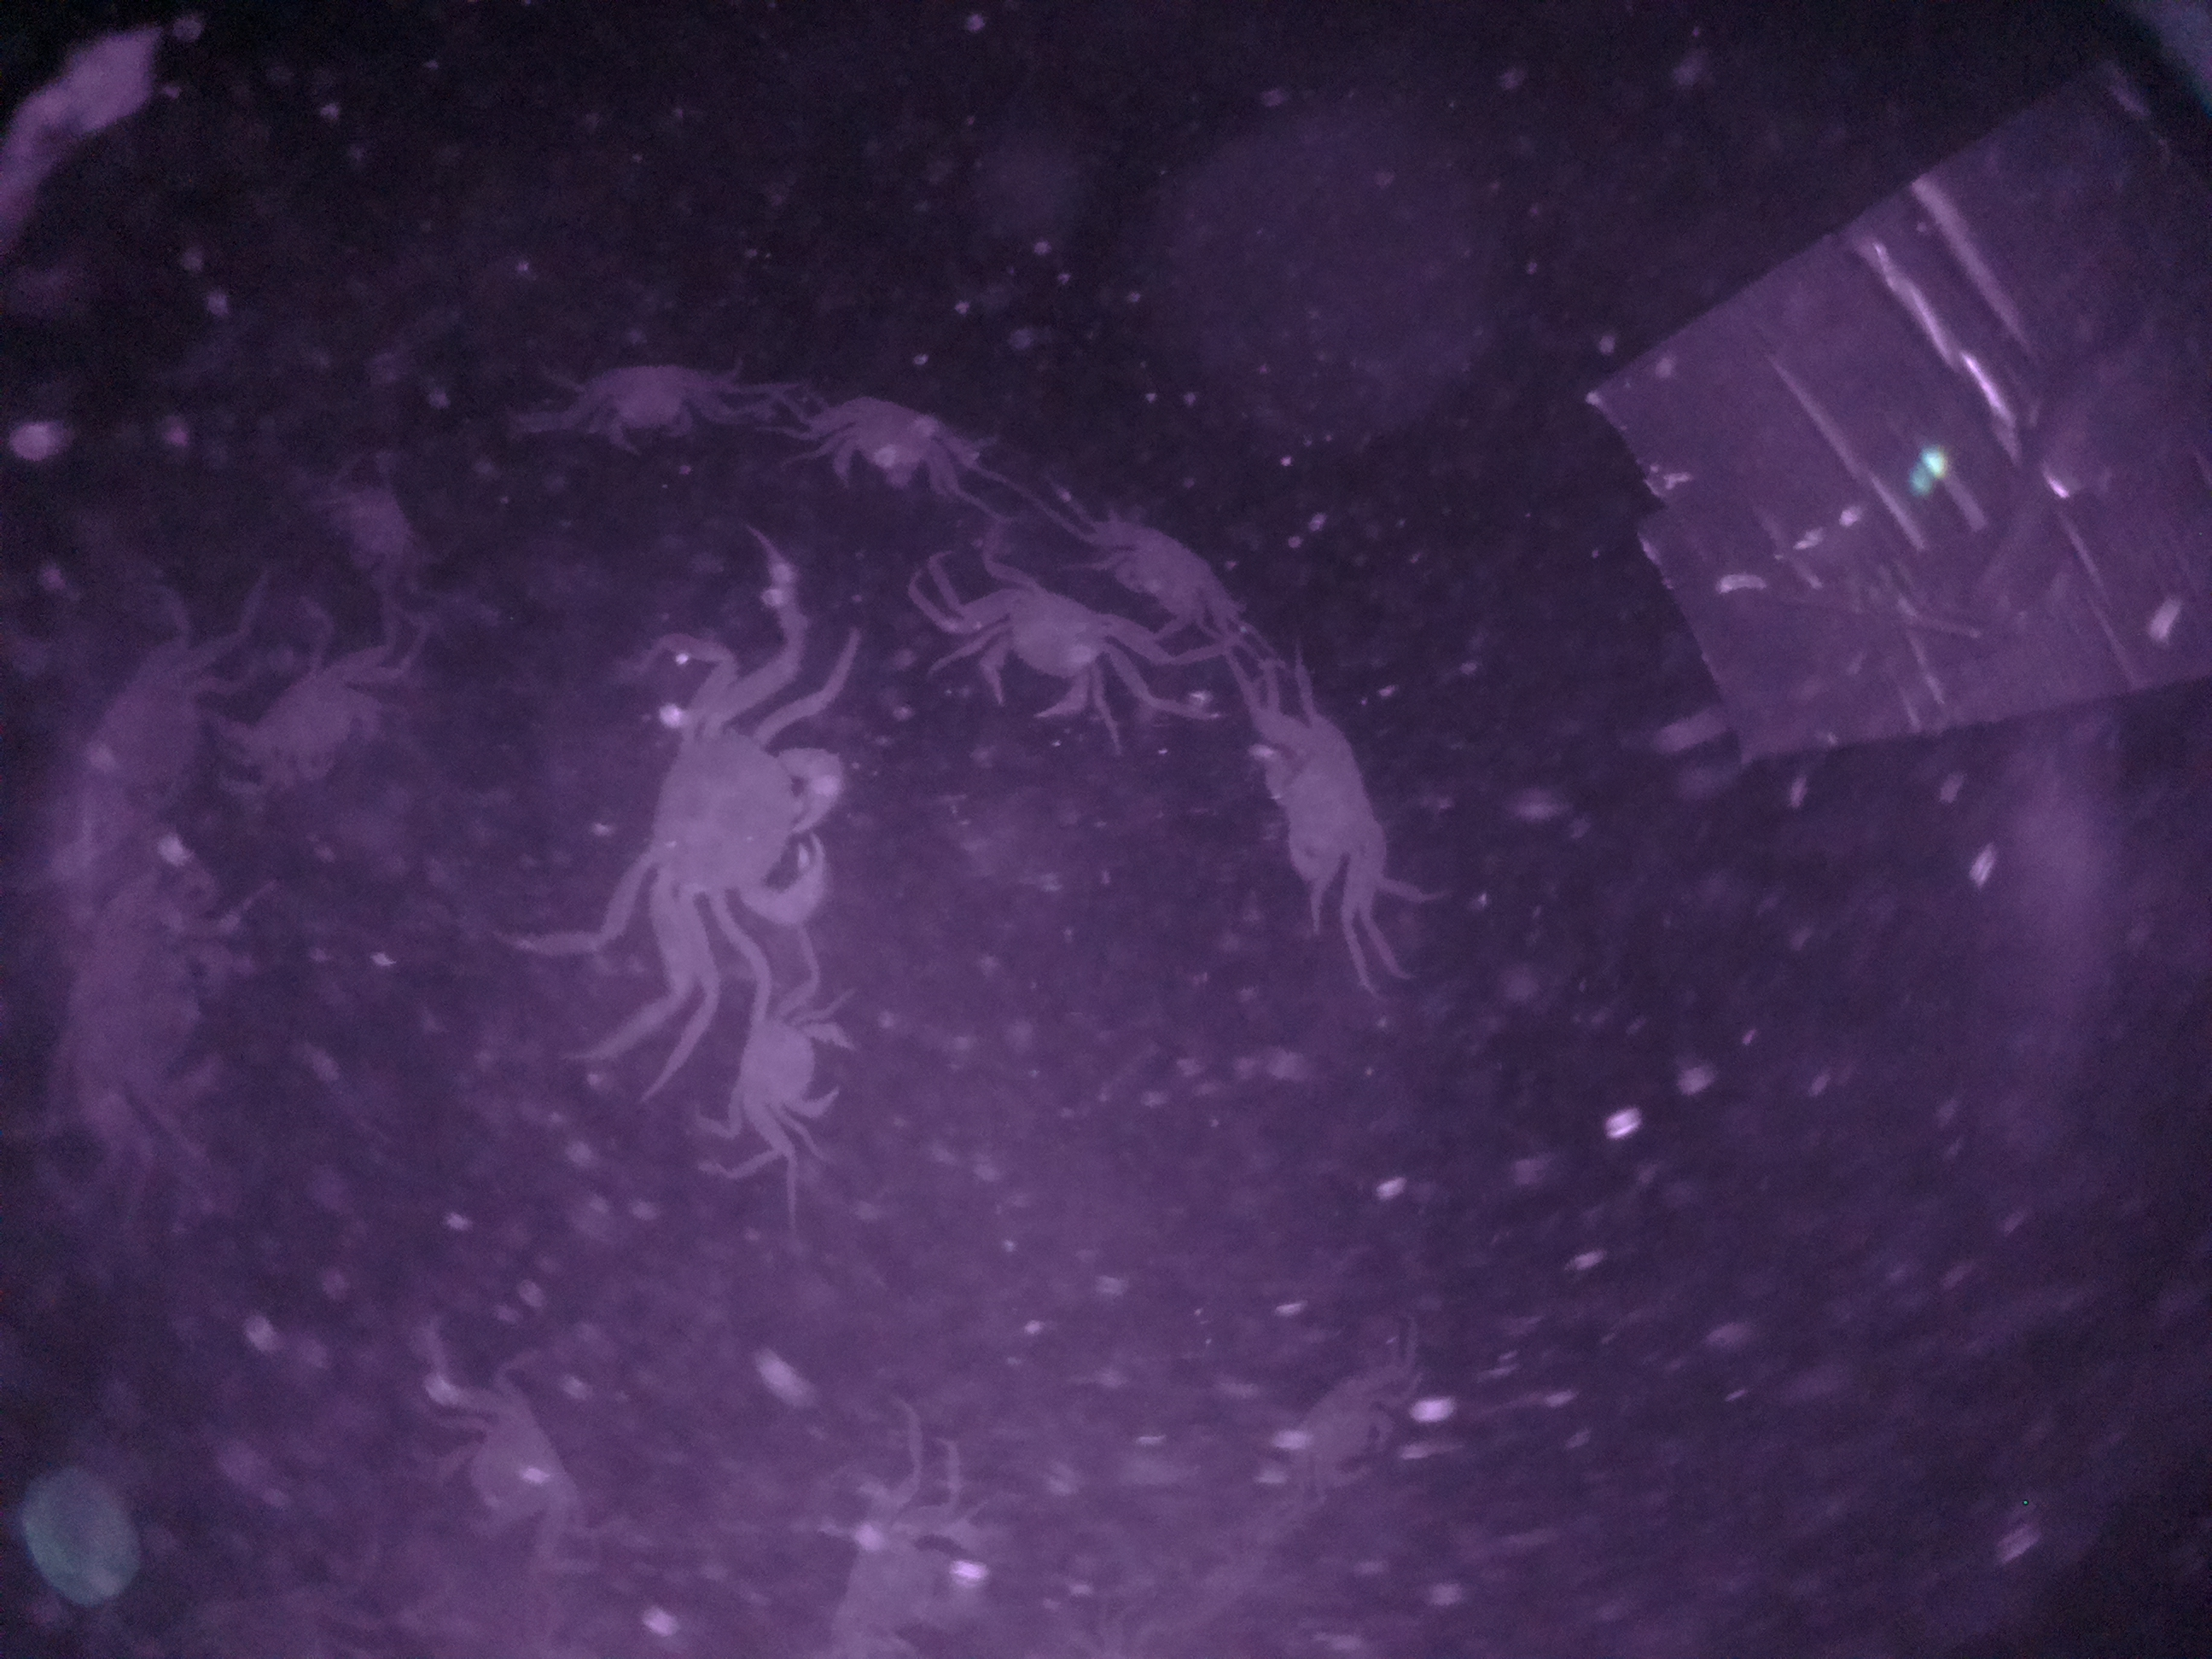Crab: (596, 680, 857, 924), (946, 570, 1132, 739), (1247, 688, 1393, 903), (242, 636, 397, 795), (799, 369, 977, 495), (705, 997, 862, 1136), (566, 350, 737, 455)
